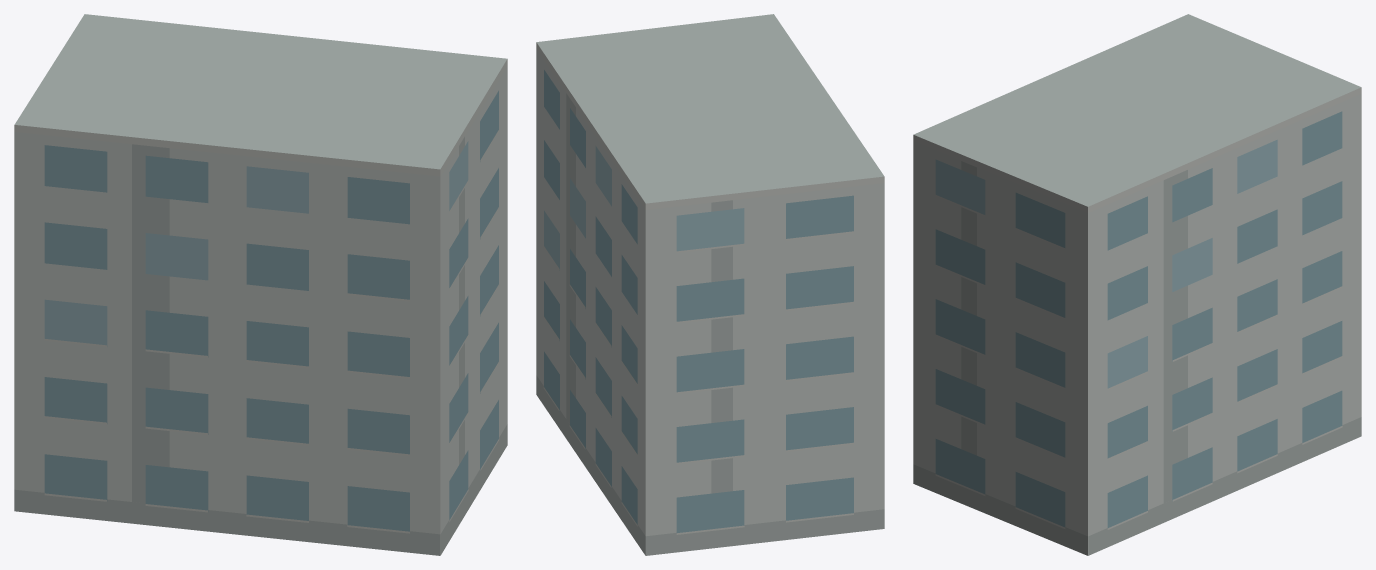
File: survey-upis-33023304.glb
3 renders of one model, left to right at view 1: azimuth 30°, elevation 25°; view 2: azimuth 150°, elevation 25°; view 3: azimuth 270°, elevation 25°, orthographic. The views are drawn at different scales.
Parts seen in each view (by area): view 1: survey-upis-33023304.tmp; view 2: survey-upis-33023304.tmp; view 3: survey-upis-33023304.tmp.
Boxes of the visible parts, bbox=[...] form: survey-upis-33023304.tmp: bbox=[14, 14, 507, 555]; survey-upis-33023304.tmp: bbox=[536, 14, 884, 555]; survey-upis-33023304.tmp: bbox=[913, 14, 1361, 555].
Size of the model in its own units: 15.65 by 13.2 by 15.37.
